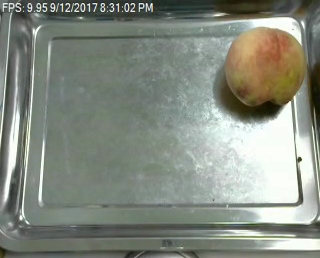Peach: (224, 24, 306, 107)
